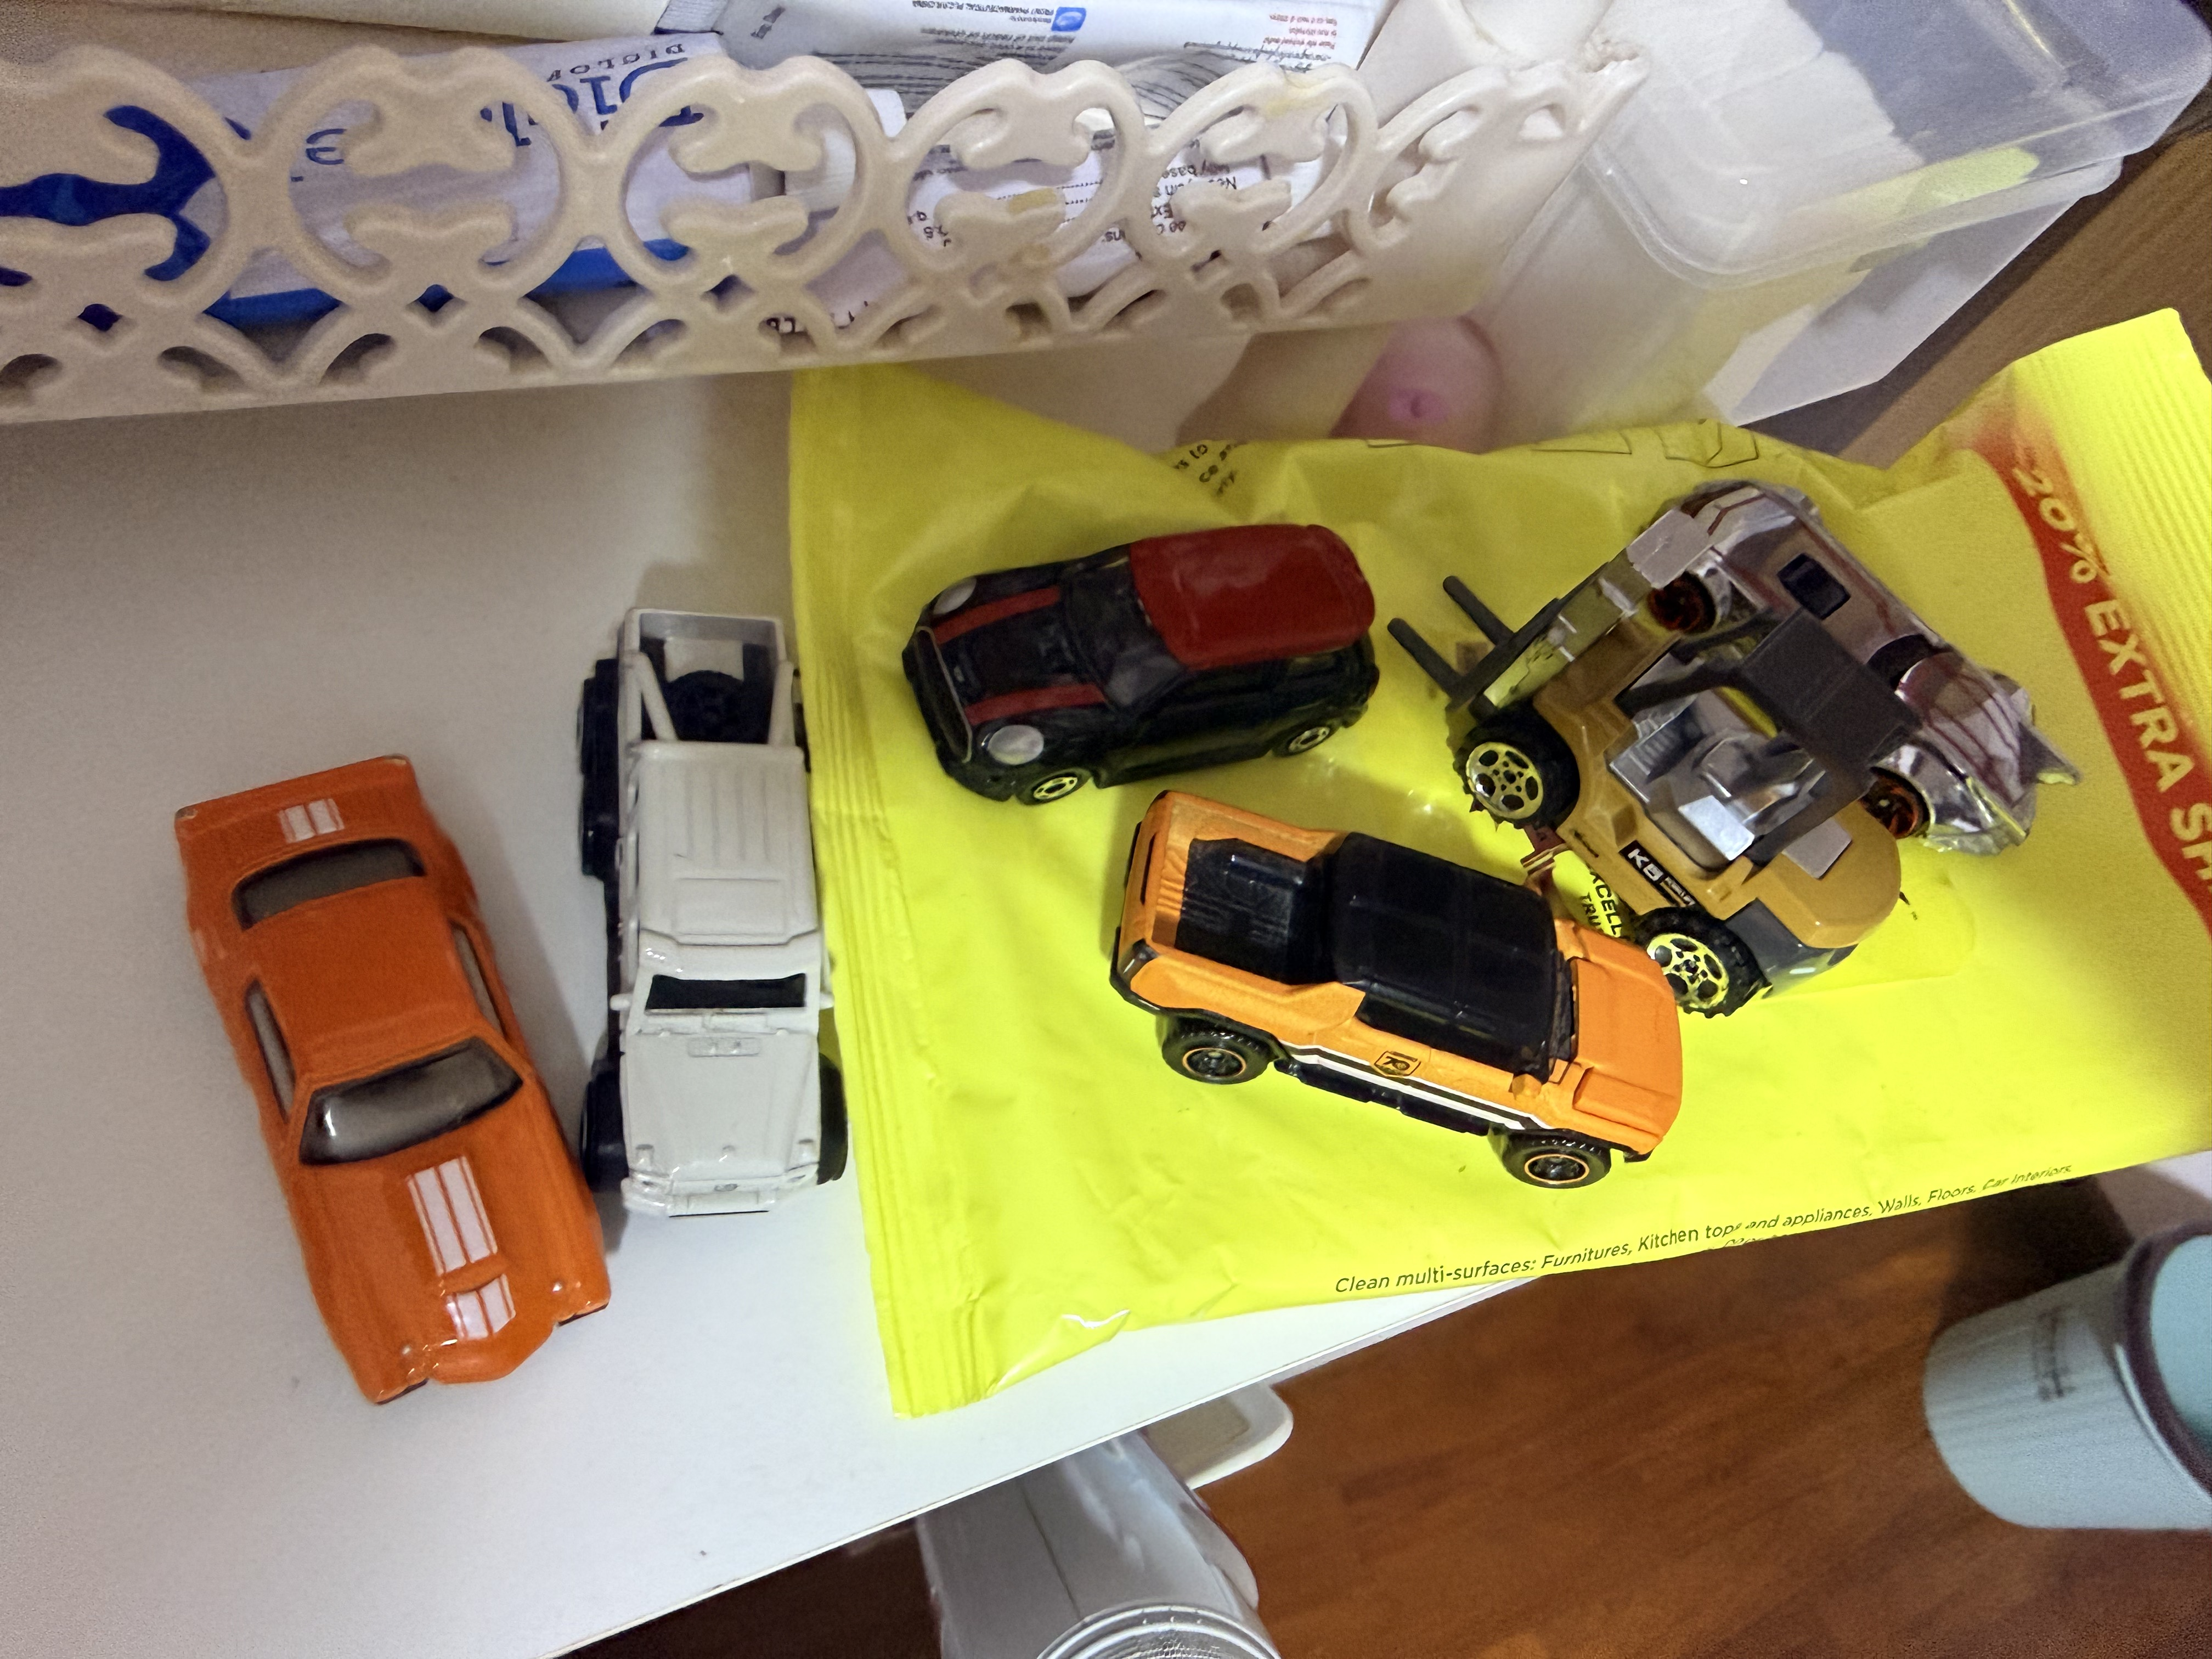camaro_rs: (174, 749, 613, 1412)
dc_comics: (1644, 474, 2083, 856)
forklift: (1386, 509, 1928, 1018)
gmc_hummer: (1080, 786, 1683, 1190)
mercedes_benz: (575, 605, 850, 1215)
mini_cooper: (902, 523, 1381, 810)
